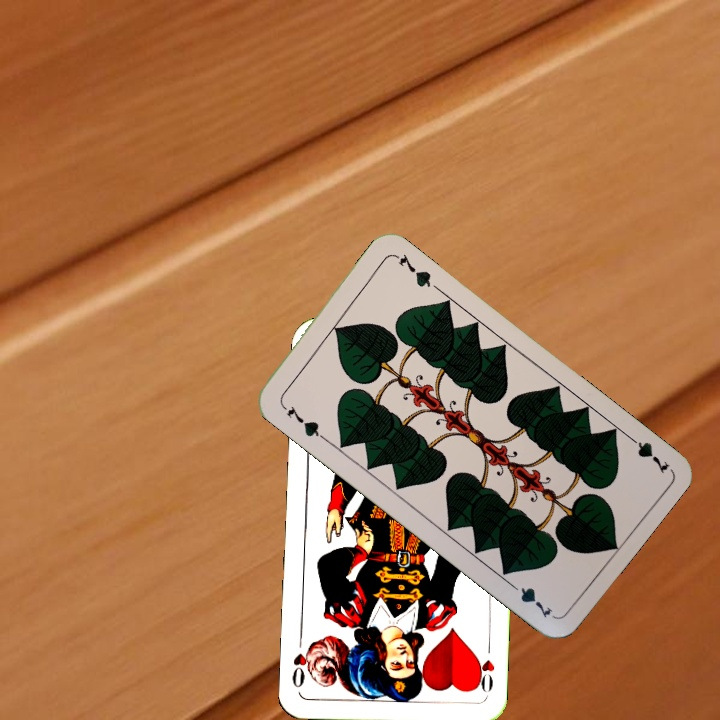G7: (621, 429, 672, 476), (277, 399, 326, 441)
HO: (472, 640, 497, 695)
